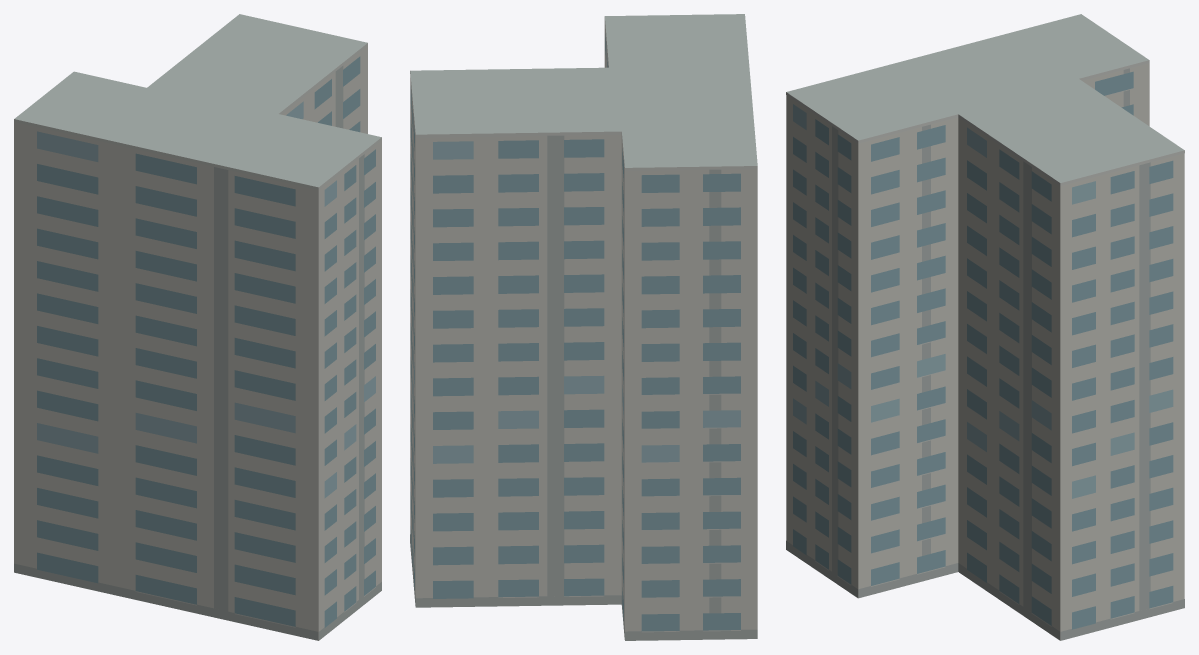
The model's file is residential-84cd4bb9-b05f-44e0-aef0-30d36cdc2bd7.glb.
3 renders of one model, left to right at view 1: azimuth 30°, elevation 25°; view 2: azimuth 150°, elevation 25°; view 3: azimuth 270°, elevation 25°, orthographic. The views are drawn at different scales.
Visible parts, largest first — view 1: residential-84cd4bb9-b05f-44e0-aef0-30d36cdc2bd7.tmp; view 2: residential-84cd4bb9-b05f-44e0-aef0-30d36cdc2bd7.tmp; view 3: residential-84cd4bb9-b05f-44e0-aef0-30d36cdc2bd7.tmp.
Boxes of the visible parts, <box> form: residential-84cd4bb9-b05f-44e0-aef0-30d36cdc2bd7.tmp: <box>14,14,381,640</box>; residential-84cd4bb9-b05f-44e0-aef0-30d36cdc2bd7.tmp: <box>410,14,757,640</box>; residential-84cd4bb9-b05f-44e0-aef0-30d36cdc2bd7.tmp: <box>786,14,1184,640</box>.
Bounding box in the file's own units: 29.34 × 37 × 29.21.
